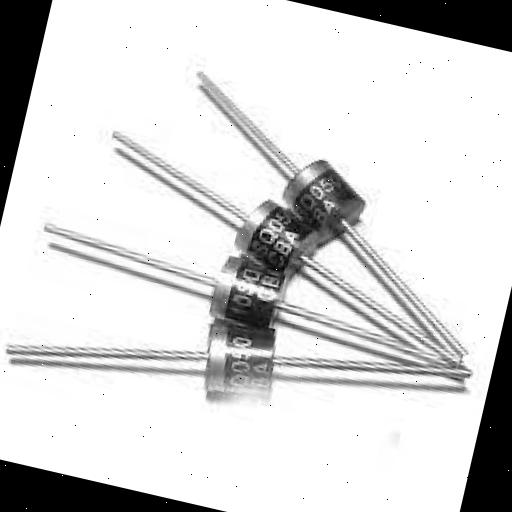DIODE: (0, 38, 512, 466), (166, 298, 330, 442), (176, 246, 324, 360), (256, 145, 378, 252), (219, 198, 338, 298)
